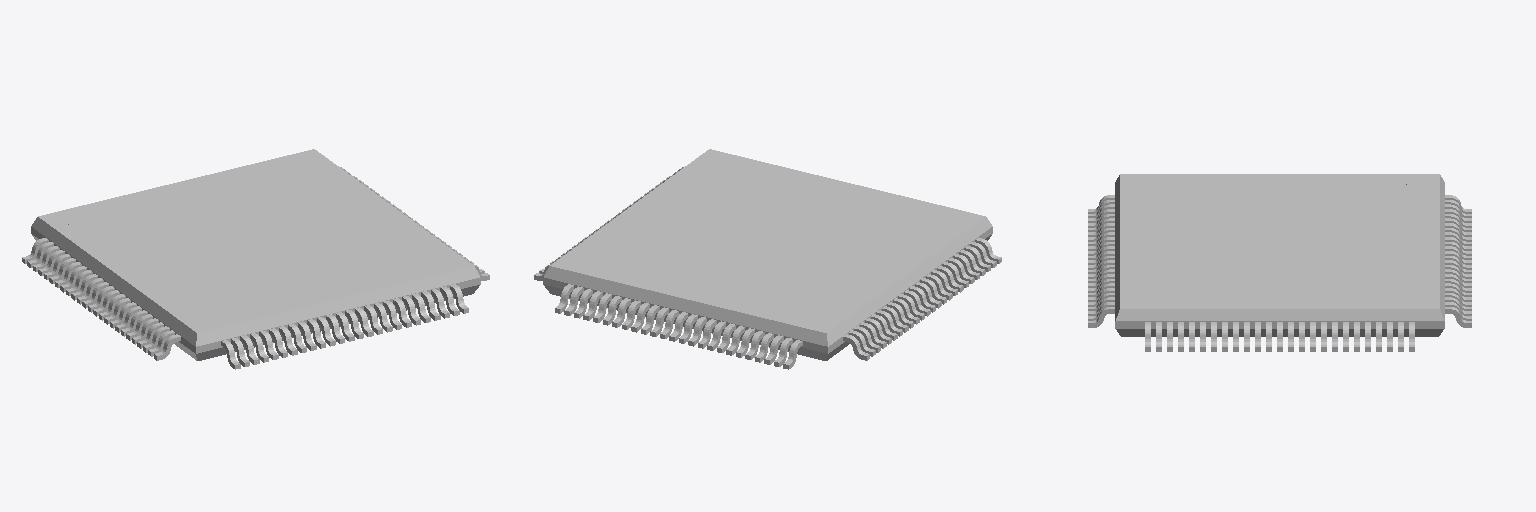
Rendered from TQFP100_PT_MCH test.obj.
3 views of the same model, side by side, from view 1: azimuth 30°, elevation 25°; view 2: azimuth 150°, elevation 25°; view 3: azimuth 270°, elevation 25° (orthographic).
Parts seen in each view (by area): view 1: part/SOLID; view 2: part/SOLID; view 3: part/SOLID.
Part boxes in pixels (x1,y1,x2,y2): part/SOLID: (22,149,489,369); part/SOLID: (534,149,1001,369); part/SOLID: (1088,174,1471,351).
Size of the model in its own units: 14 by 1.2 by 14.